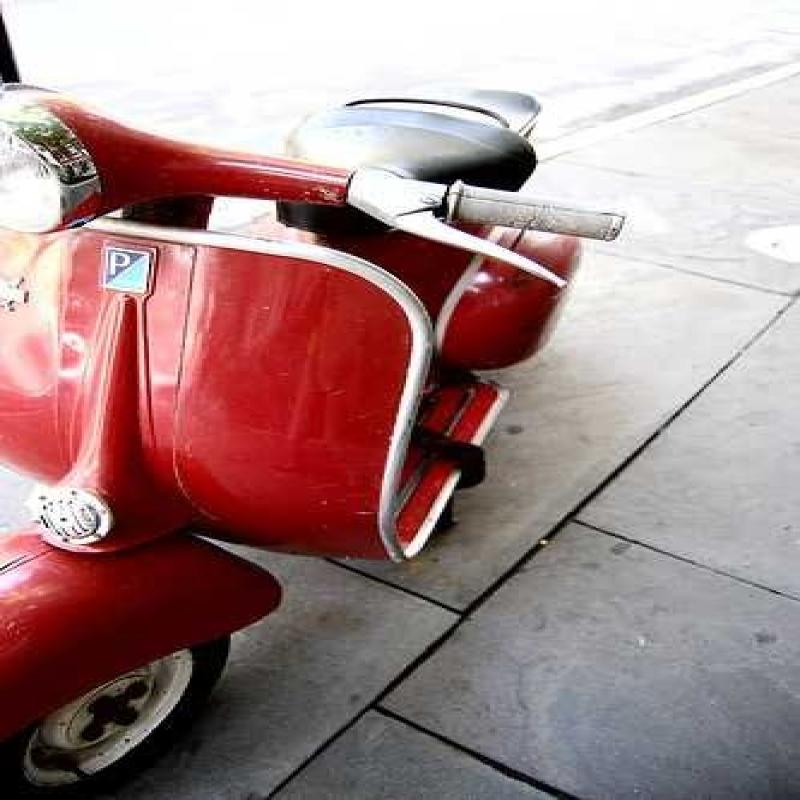bike: (0, 32, 608, 776)
